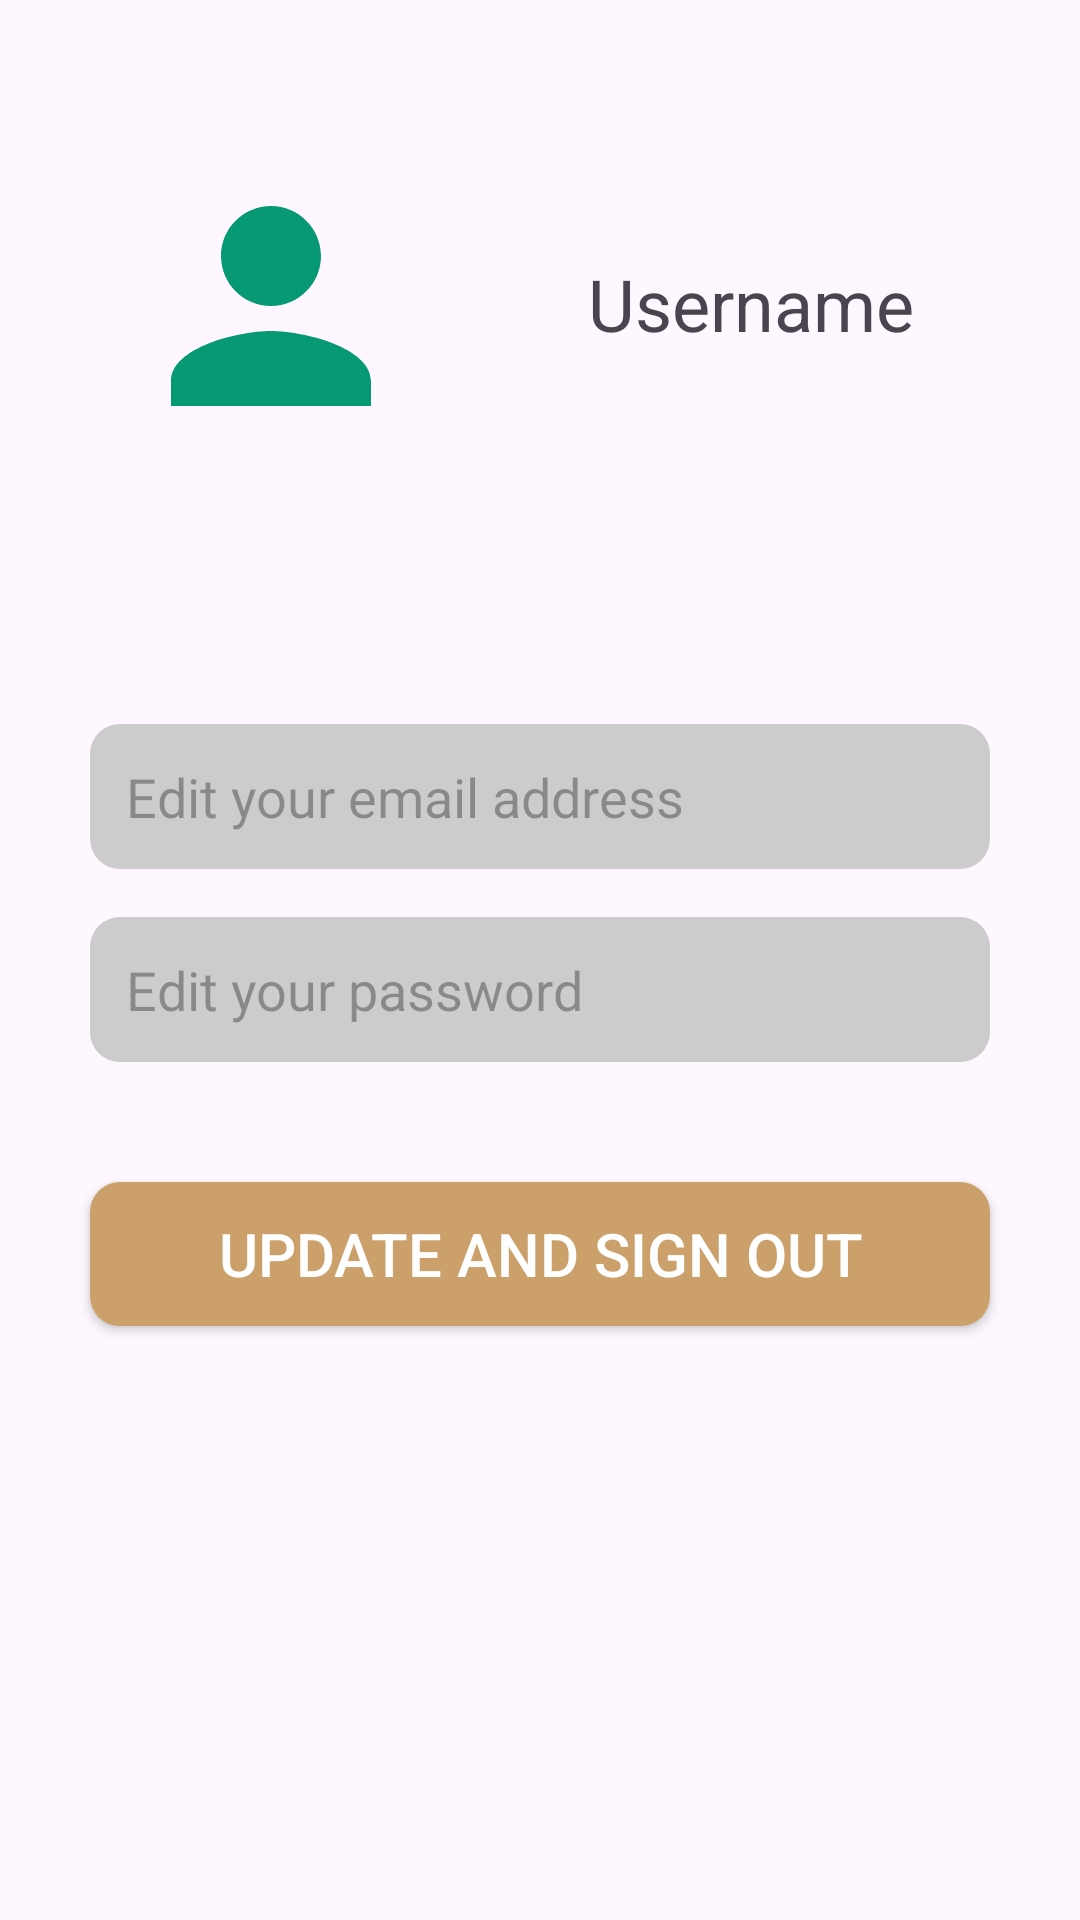

Icons on this 1080px x 1920px Android screen, each with its box as [x1=x1, y1=y1, x2=x2, y2=y2]:
profile: [x1=171, y1=206, x2=371, y2=406]
